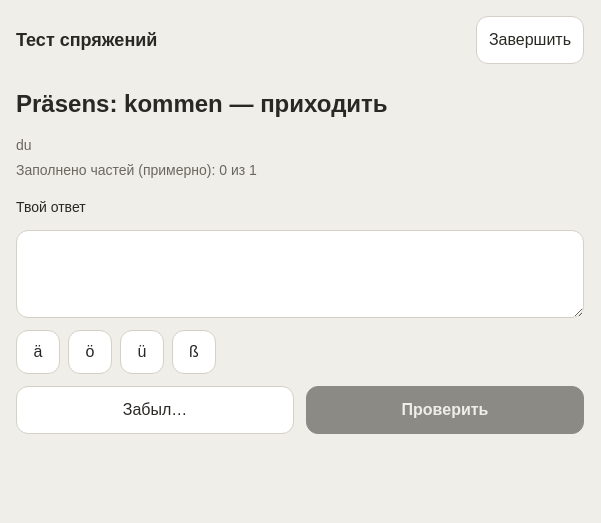
useConjugationHost (StrictMode) › useConjugationHost: start from Today › H12 neither an accepted start nor the summary after an own answer gives a haptic signal
The width and height of the screenshot is (601, 523).
In the text box: [300, 274] box [16,230,584,318], type "kommst"
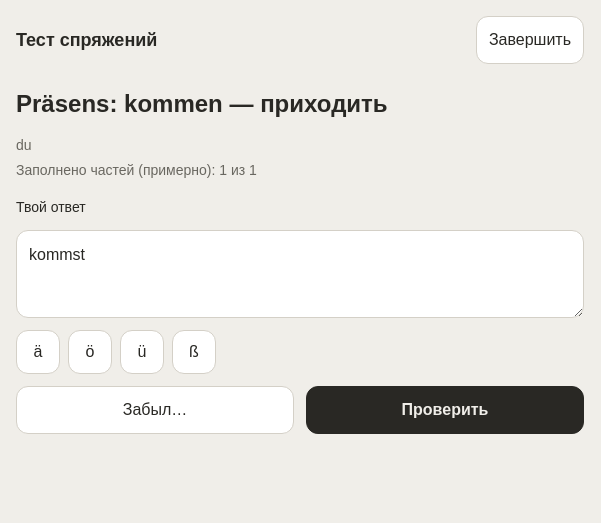
Click the button "Проверить": [445, 410] box [306,386,584,434]
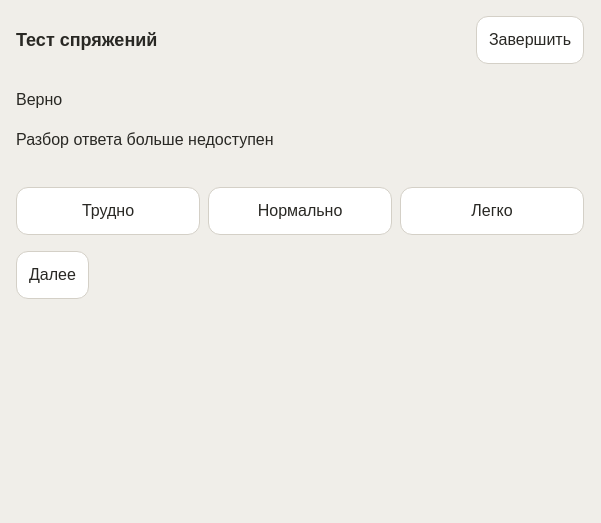
Click the button "Далее": [52, 275] box [16,251,89,299]
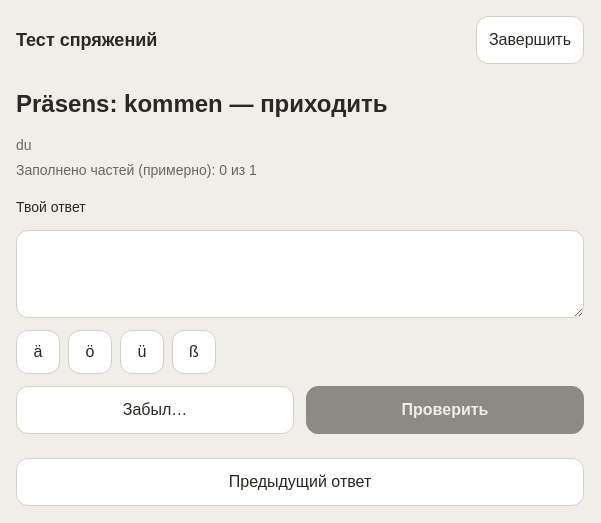
In the text box: [300, 274] box [16,230,584,318], type "kommst"
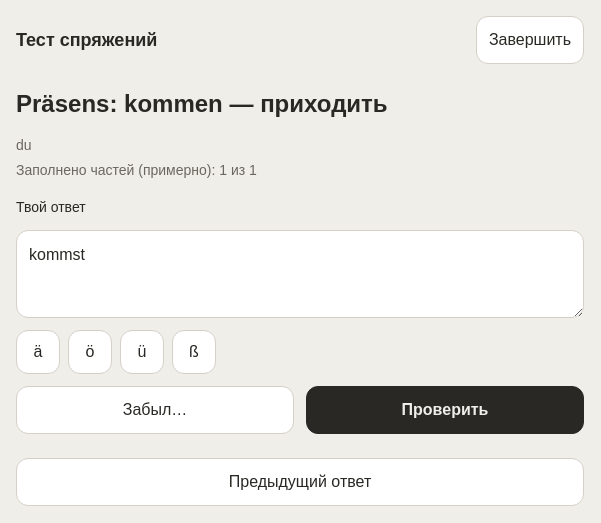
Click the button "Проверить": [445, 410] box [306,386,584,434]
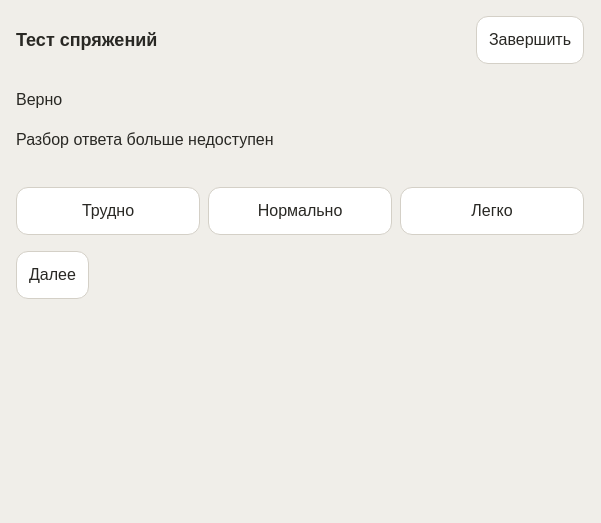
Click the button "Далее": [52, 275] box [16,251,89,299]
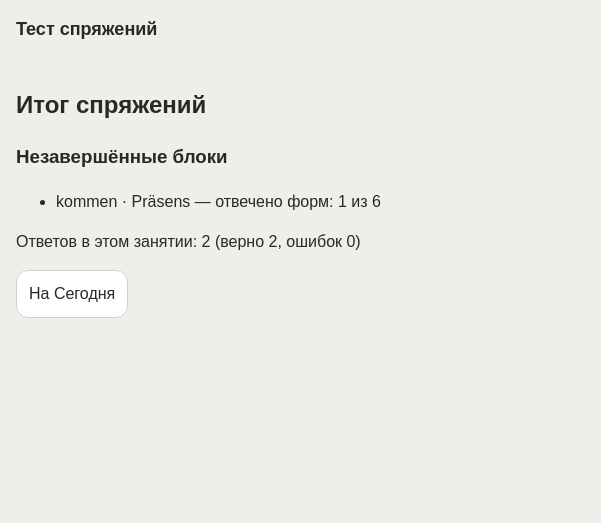
Expected: the heading "Итог спряжений" is shown, [16,91,206,118]
